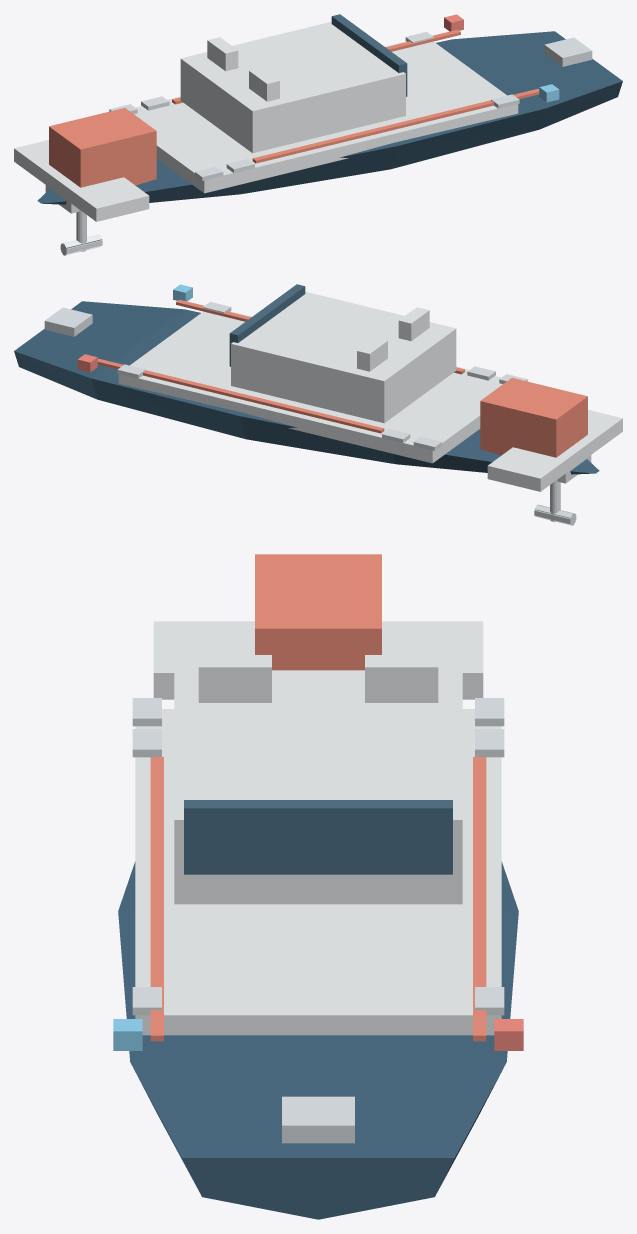
File: apex_v12_offshore.glb
3 views of the same model, one above another, from view 1: azimuth 30°, elevation 25°; view 2: azimuth 150°, elevation 25°; view 3: azimuth 270°, elevation 25° (orthographic). The views are drawn at different scales.
Visible parts, largest first — view 1: 02_Sculpted_cockpit_pod, 00_Sculpted_V_planing_hull, 01_Upper_deck, 17_High_performance_engine_cowl, 26_Stern_swim_platform, 10_Racing_pinstripe, 03_Tinted_panoramic_windshield, 23_Bow_cleat, 05_Seat_back, 07_Seat_back, 09_Racing_pinstripe, 19_Drive_shaft; view 2: 02_Sculpted_cockpit_pod, 00_Sculpted_V_planing_hull, 01_Upper_deck, 17_High_performance_engine_cowl, 26_Stern_swim_platform, 09_Racing_pinstripe, 03_Tinted_panoramic_windshield, 23_Bow_cleat, 07_Seat_back, 05_Seat_back, 10_Racing_pinstripe, 19_Drive_shaft; view 3: 00_Sculpted_V_planing_hull, 01_Upper_deck, 02_Sculpted_cockpit_pod, 03_Tinted_panoramic_windshield, 17_High_performance_engine_cowl, 26_Stern_swim_platform, 09_Racing_pinstripe, 10_Racing_pinstripe, 05_Seat_back, 07_Seat_back, 23_Bow_cleat, 24_Navigation_light (+1 smaller).
Part boxes in pixels (left/top/right/bottom): 02_Sculpted_cockpit_pod: left=180, top=21, right=405, bottom=153; 00_Sculpted_V_planing_hull: left=37, top=31, right=622, bottom=204; 01_Upper_deck: left=134, top=41, right=518, bottom=193; 17_High_performance_engine_cowl: left=49, top=108, right=156, bottom=187; 26_Stern_swim_platform: left=14, top=140, right=149, bottom=221; 10_Racing_pinstripe: left=252, top=88, right=539, bottom=163; 03_Tinted_panoramic_windshield: left=331, top=14, right=407, bottom=96; 23_Bow_cleat: left=544, top=37, right=592, bottom=66; 05_Seat_back: left=207, top=37, right=238, bottom=71; 07_Seat_back: left=249, top=67, right=279, bottom=101; 09_Racing_pinstripe: left=172, top=29, right=460, bottom=104; 19_Drive_shaft: left=76, top=210, right=86, bottom=251; 02_Sculpted_cockpit_pod: left=231, top=291, right=456, bottom=423; 00_Sculpted_V_planing_hull: left=14, top=301, right=599, bottom=474; 01_Upper_deck: left=118, top=311, right=502, bottom=463; 17_High_performance_engine_cowl: left=480, top=378, right=587, bottom=457; 26_Stern_swim_platform: left=487, top=410, right=622, bottom=491; 09_Racing_pinstripe: left=97, top=358, right=384, bottom=433; 03_Tinted_panoramic_windshield: left=229, top=284, right=305, bottom=366; 23_Bow_cleat: left=44, top=307, right=92, bottom=336; 07_Seat_back: left=398, top=307, right=429, bottom=341; 05_Seat_back: left=357, top=337, right=387, bottom=371; 10_Racing_pinstripe: left=176, top=299, right=464, bottom=374; 19_Drive_shaft: left=550, top=480, right=560, bottom=521; 00_Sculpted_V_planing_hull: left=118, top=861, right=518, bottom=1219; 01_Upper_deck: left=135, top=709, right=501, bottom=1035; 02_Sculpted_cockpit_pod: left=174, top=670, right=462, bottom=904; 03_Tinted_panoramic_windshield: left=184, top=800, right=452, bottom=874; 17_High_performance_engine_cowl: left=255, top=554, right=381, bottom=670; 26_Stern_swim_platform: left=153, top=621, right=483, bottom=699; 09_Racing_pinstripe: left=473, top=757, right=486, bottom=1041; 10_Racing_pinstripe: left=150, top=757, right=163, bottom=1041; 05_Seat_back: left=365, top=655, right=438, bottom=702; 07_Seat_back: left=198, top=655, right=271, bottom=702; 23_Bow_cleat: left=282, top=1096, right=354, bottom=1143; 24_Navigation_light: left=494, top=1019, right=523, bottom=1050.
Size of the model in its own units: 5.19 by 1.36 by 1.68.
